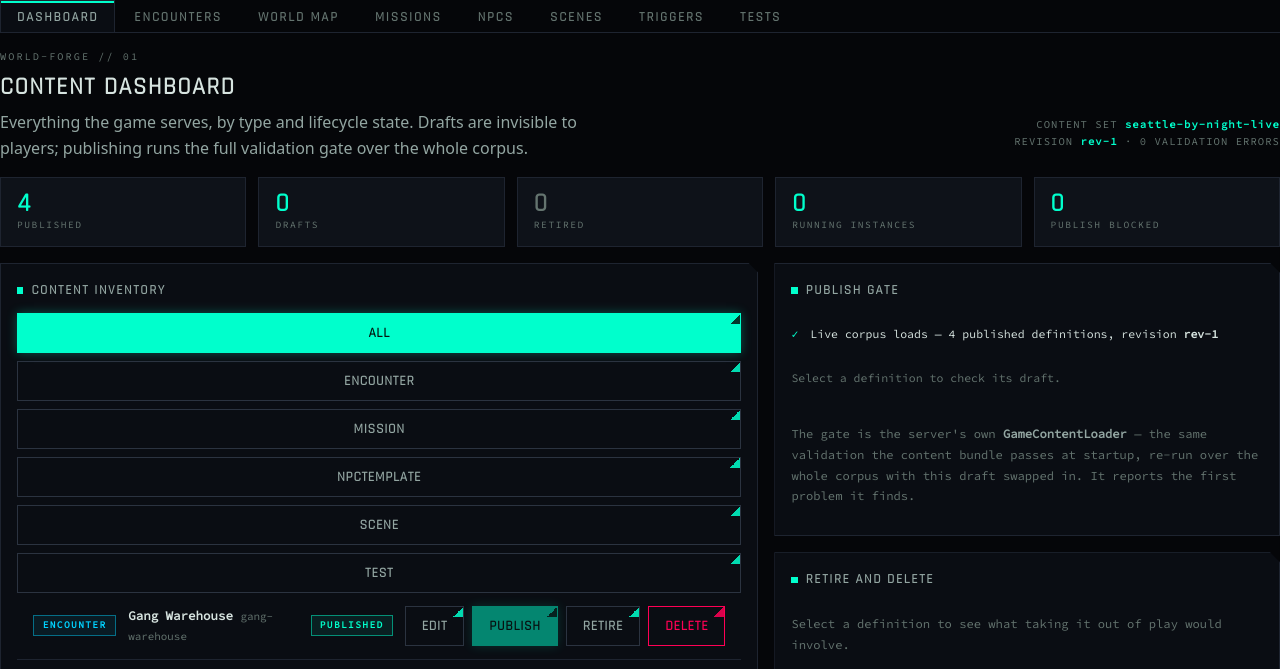
Test: Trigger owner kinds › does not carry an open encounter fragment into the mission list
Expected: the text "Gang Warehouse" is shown, left=128, top=608, right=233, bottom=623
Click the tab "Triggers": x=672, y=16 left=622, top=0, right=721, bottom=32
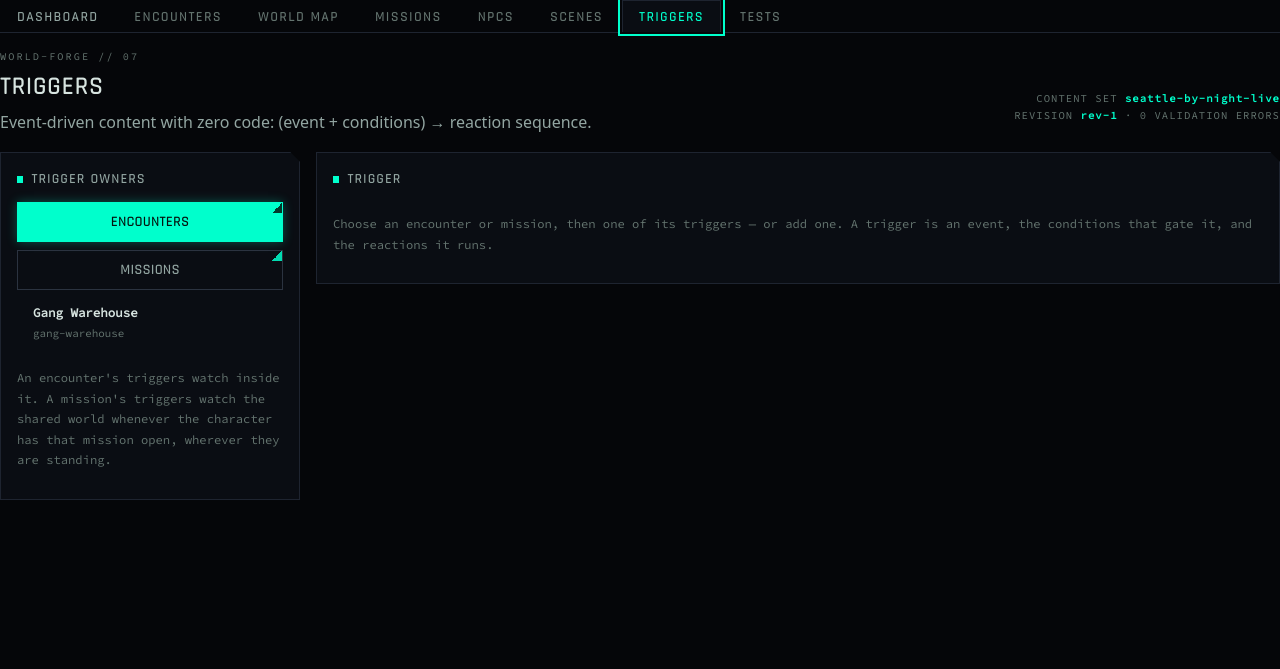
Click the 3rd button: x=150, y=323 left=33, top=299, right=267, bottom=347
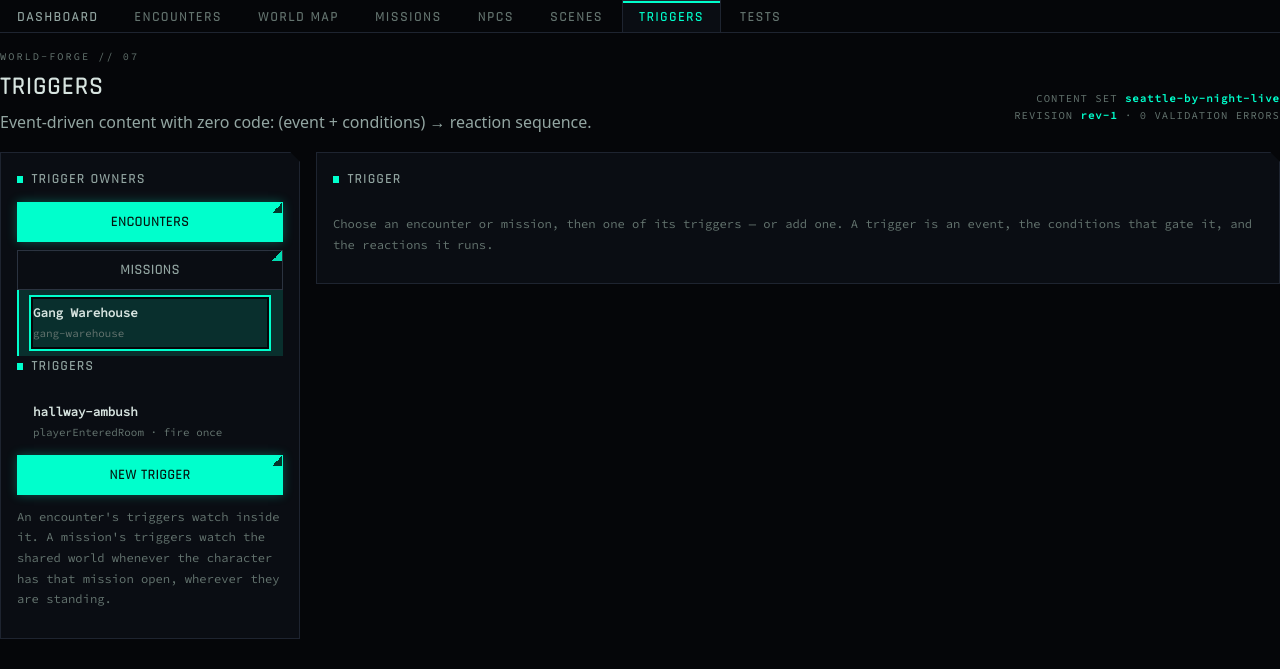
Expected: the button "hallway-ambush" is shown, left=33, top=398, right=267, bottom=446
Click the button "Missions": x=150, y=270 left=17, top=250, right=283, bottom=290
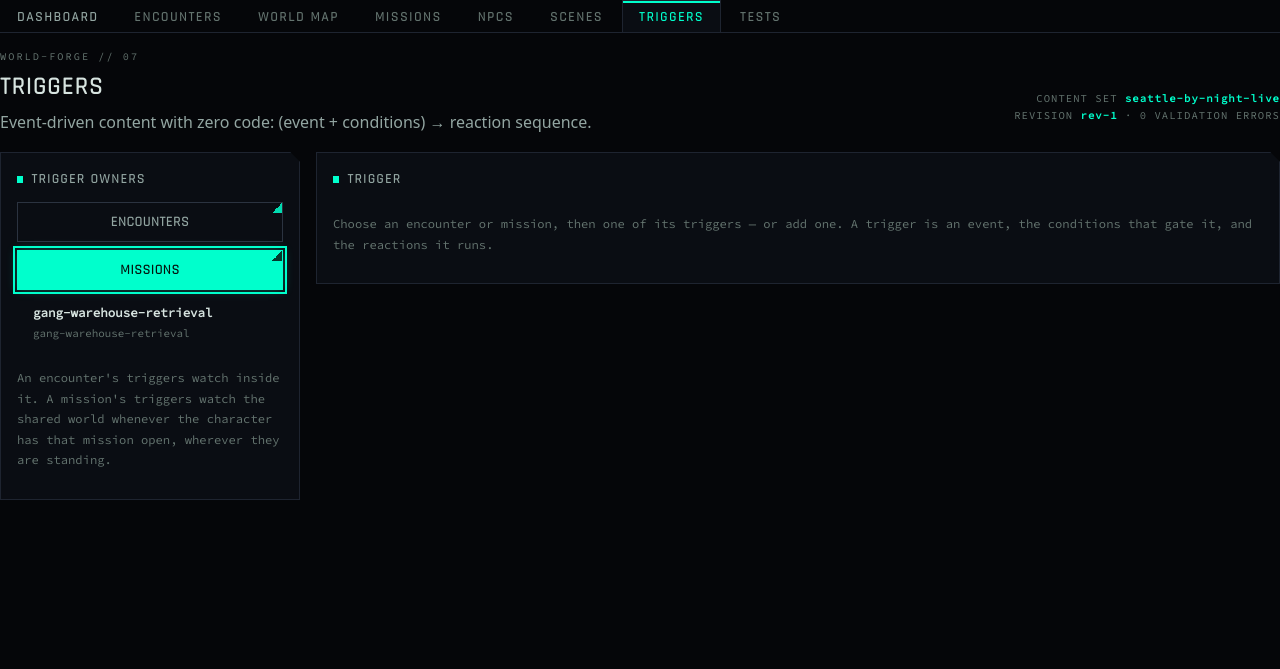
Expected: the button "hallway-ambush" is gone
